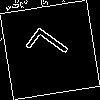L: (24, 24, 79, 75)
